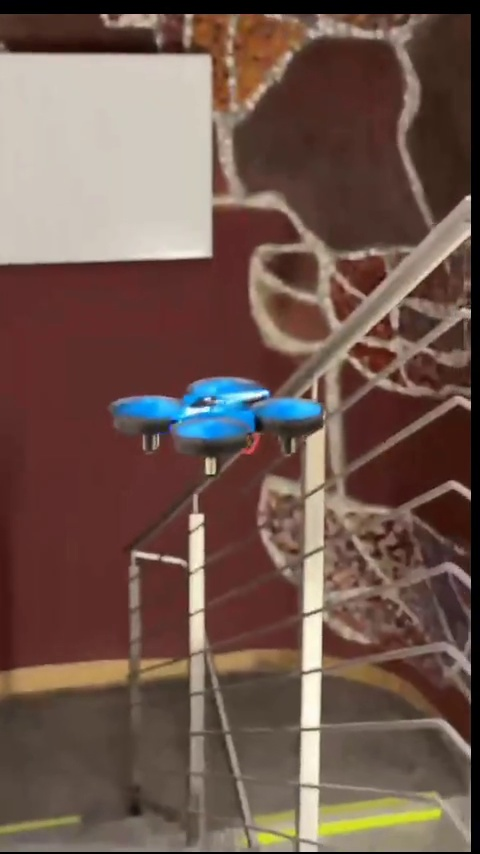drone: (114, 368, 314, 471)
